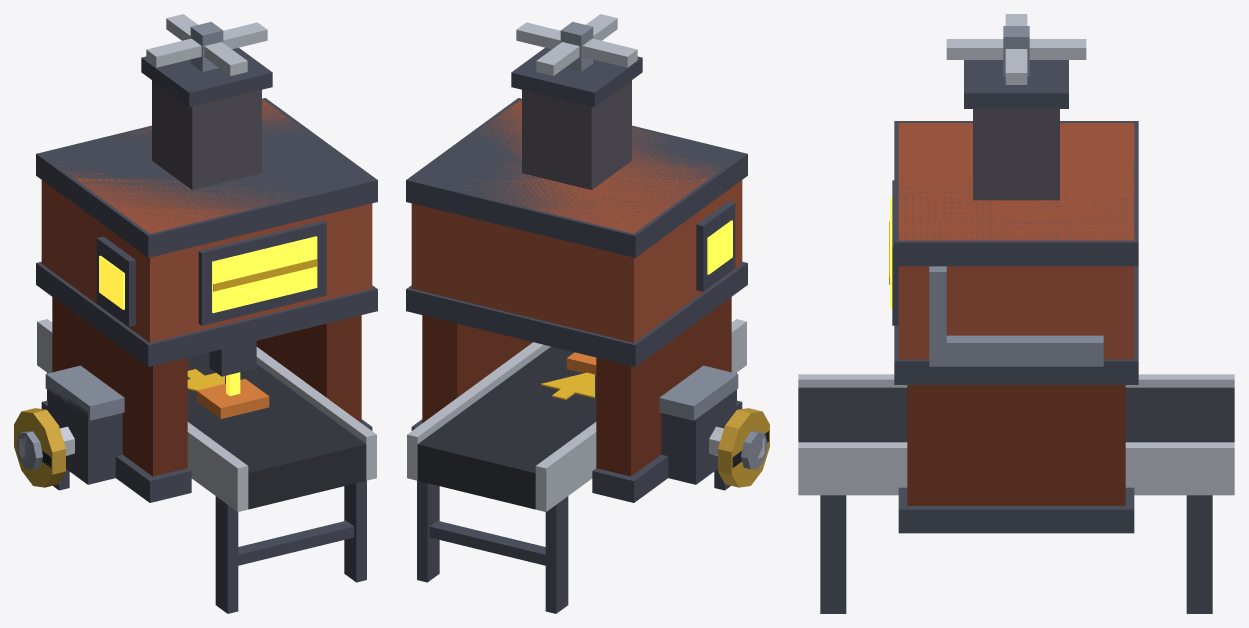
The model's file is furnace-left.glb.
3 renders of one model, left to right at view 1: azimuth 30°, elevation 25°; view 2: azimuth 150°, elevation 25°; view 3: azimuth 270°, elevation 25°, orthographic. The views are drawn at different scales.
Parts seen in each view (by area): view 1: furnace-left, spin-up, spin-x; view 2: furnace-left, spin-up, spin-x; view 3: furnace-left, spin-up.
Boxes of the visible parts, x1,y1,x2,y2 form: furnace-left: (19,47,377,613); spin-up: (146,14,267,75); spin-x: (14,408,65,487); furnace-left: (406,47,764,613); spin-up: (516,14,637,75); spin-x: (718,408,769,487); furnace-left: (798,60,1234,613); spin-up: (946,14,1086,84).
Size of the model in its own units: 0.88 by 1.38 by 1.
3 materials, 3 textured.
